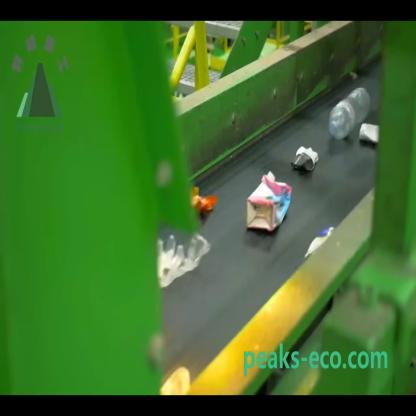Glass Bottle: (327, 86, 371, 140)
